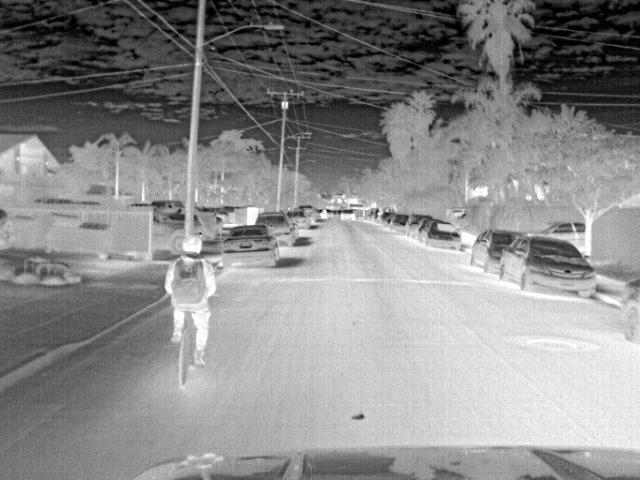car: (501, 233, 599, 300), (219, 223, 280, 267), (610, 278, 640, 345), (469, 232, 516, 274), (255, 214, 301, 248), (531, 220, 584, 248), (151, 212, 183, 255), (422, 222, 464, 250), (149, 196, 188, 215), (409, 218, 442, 239), (284, 209, 314, 231), (409, 213, 433, 237), (391, 214, 411, 234), (338, 207, 359, 222)
person: (164, 237, 221, 368)
